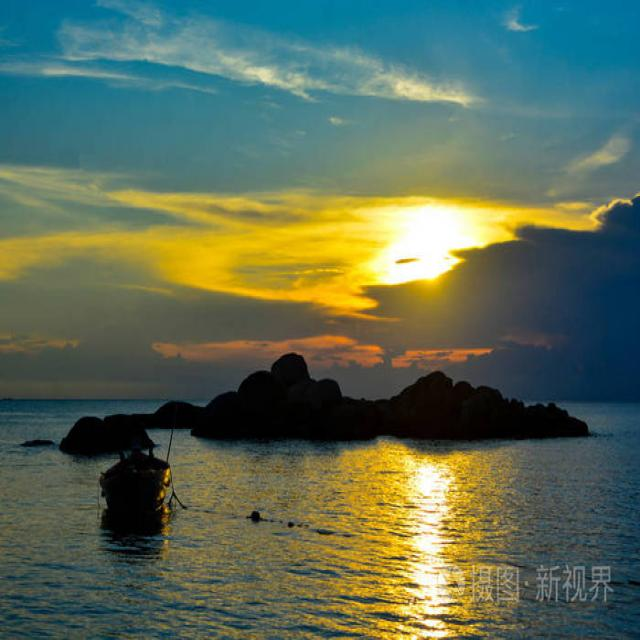island: (57, 344, 604, 462)
